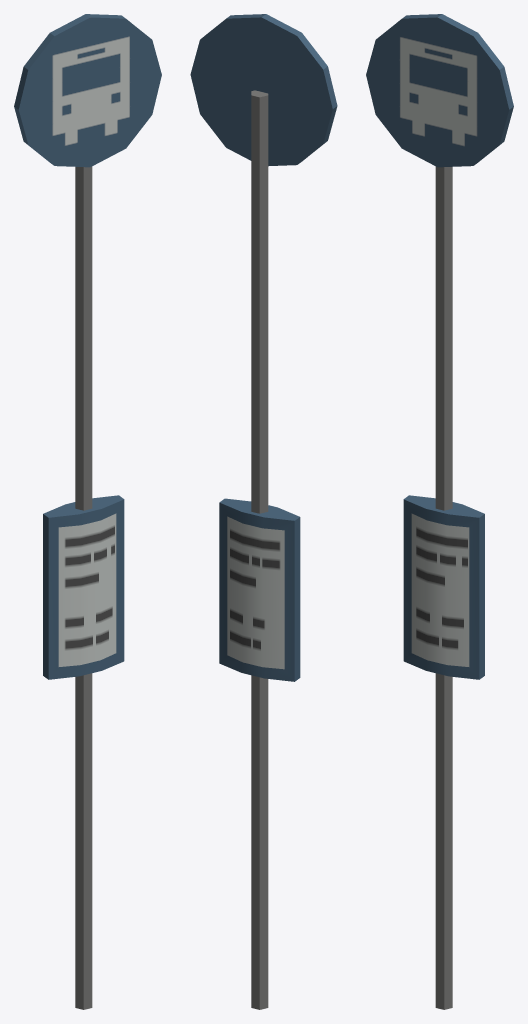
The model's file is SM_Prop_Sign_Bustop_01.fbx.
3 renders of one model, left to right at view 1: azimuth 30°, elevation 25°; view 2: azimuth 150°, elevation 25°; view 3: azimuth 330°, elevation 25°, orthographic.
Parts seen in each view (by area): view 1: SM_Prop_Sign_Bustop_01; view 2: SM_Prop_Sign_Bustop_01; view 3: SM_Prop_Sign_Bustop_01.
Part boxes in pixels (x1=…): SM_Prop_Sign_Bustop_01: x1=14, y1=14, x2=161, y2=1009; SM_Prop_Sign_Bustop_01: x1=190, y1=14, x2=337, y2=1009; SM_Prop_Sign_Bustop_01: x1=366, y1=14, x2=513, y2=1009.
Bounding box in the file's own units: 56.64 × 375 × 9.75.
